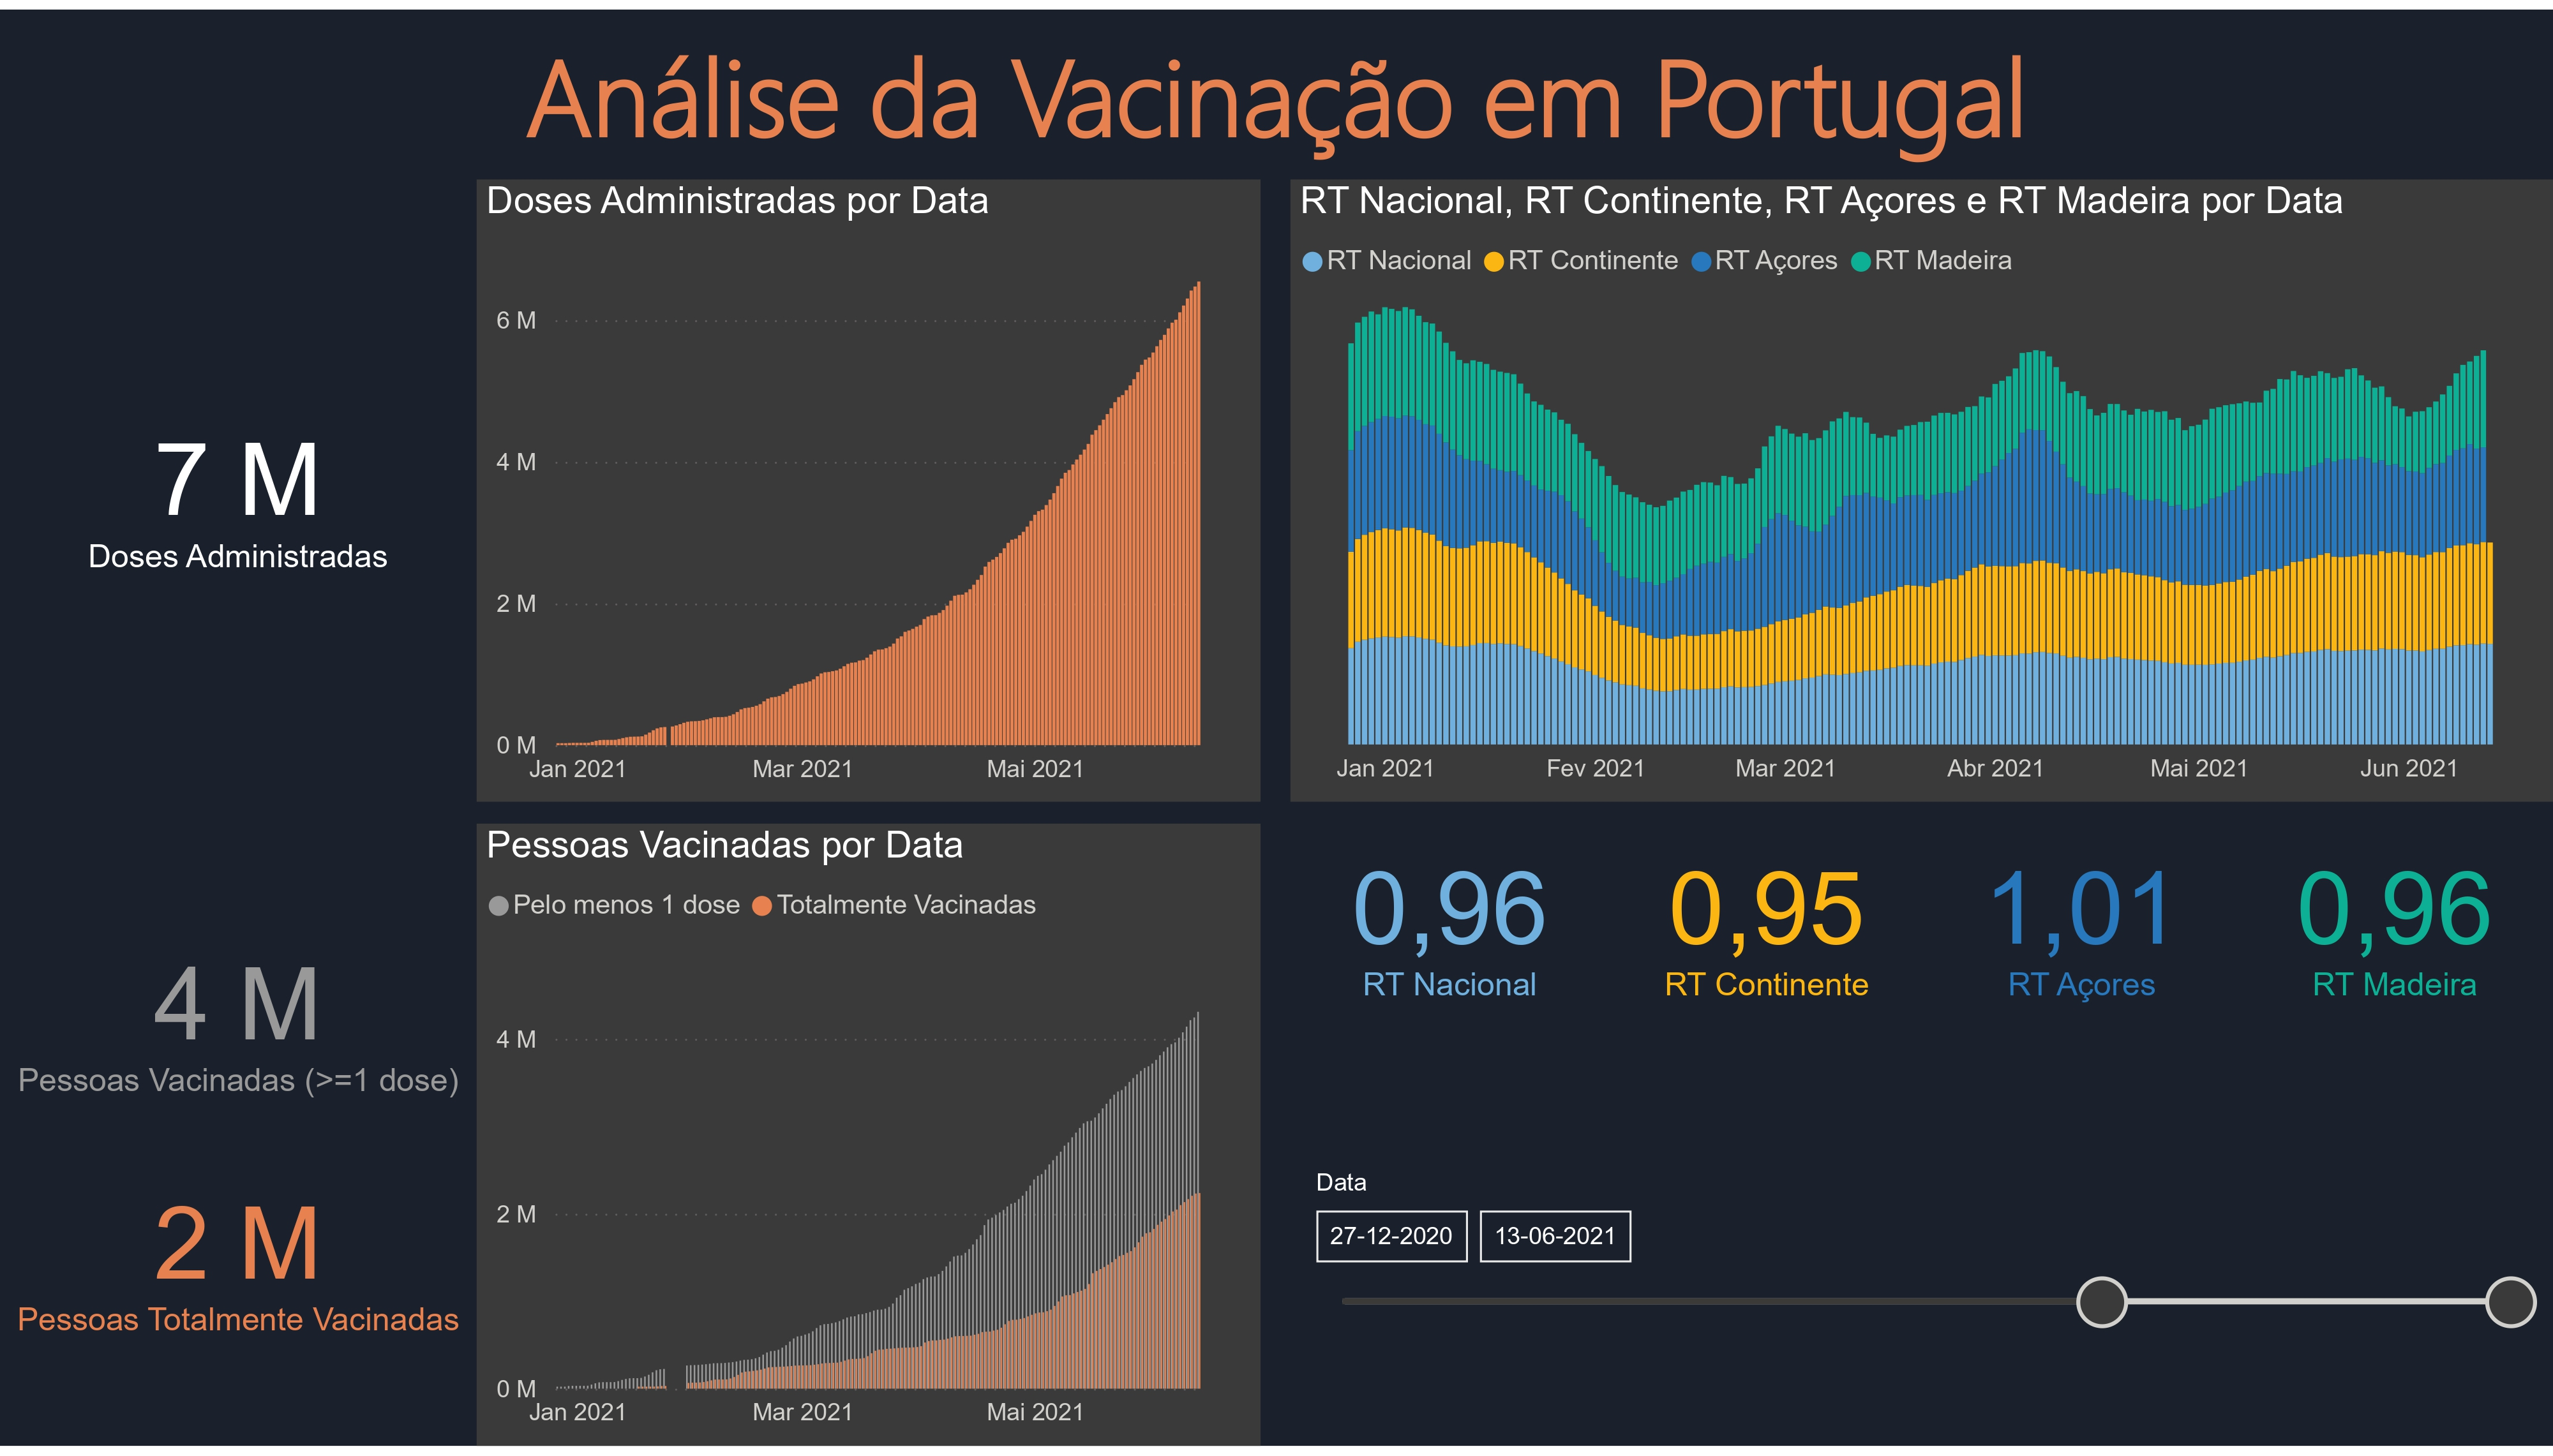

The dashboard page shown, as its layout file describes it:
{"tool":"powerbi","page":{"name":"Vacinação Portugal","canvas":[1280,720],"ordinal":3},"visuals":[{"type":"card","fields":{"Values":["Vacinação_Portugal.Vacinação"]},"box":[0,188.7,238.8,103.9],"z":0},{"type":"lineStackedColumnComboChart","title":"Doses Administradas por Data","fields":{"Category":["Calendário.Data"],"Y":["Vacinação_Portugal.Vacinação"]},"box":[238.8,84.8,392.8,311.6],"z":1000},{"type":"card","fields":{"Values":["Vacinação_Portugal.Primeira Dose"]},"box":[0,456.1,238.8,95.5],"z":2000},{"type":"card","fields":{"Values":["Vacinação_Portugal.Segunda Dose"]},"box":[0,575.5,238.8,95.5],"z":3000},{"type":"lineClusteredColumnComboChart","title":"Pessoas Vacinadas por Data","fields":{"Category":["Calendário.Data"],"Y":["Vacinação_Portugal.Primeira Dose","Vacinação_Portugal.Segunda Dose"]},"box":[238.8,408.4,392.8,311.6],"z":4000},{"type":"textbox","box":[0,0,1280,84.8],"z":5000},{"type":"lineStackedColumnComboChart","title":"RT Nacional, RT Continente, RT Açores e RT Madeira por Data","fields":{"Category":["Calendário.Data"],"Y":["Avg(RT_Portugal.rt_nacional)","Avg(RT_Portugal.rt_continente)","Avg(RT_Portugal.rt_açores)","Avg(RT_Portugal.rt_madeira)"]},"box":[647.2,84.8,632.8,311.6],"z":6000},{"type":"card","fields":{"Values":["Avg(RT_Portugal.rt_nacional)"]},"box":[647.2,408.4,160,95.5],"z":7000},{"type":"card","fields":{"Values":["Avg(RT_Portugal.rt_continente)"]},"box":[807.2,408.4,157.6,95.5],"z":8000},{"type":"card","fields":{"Values":["Avg(RT_Portugal.rt_açores)"]},"box":[964.8,408.4,157.6,95.5],"z":9000},{"type":"card","fields":{"Values":["Avg(RT_Portugal.rt_madeira)"]},"box":[1122.4,408.4,157.6,95.5],"z":10000},{"type":"slicer","fields":{"Values":["Calendário.Data"]},"box":[647.2,575.5,632.8,106.3],"z":11000}]}

Visuals, with their boxes in screenshot pixels (x1, y1, x2, y2), scaled from the page's 1280x720 canvas onto the 2553x1456 screenshot:
card - Vacinação_Portugal.Vacinação: x1=0 y1=382 x2=476 y2=591
"Doses Administradas por Data" lineStackedColumnComboChart: x1=476 y1=172 x2=1260 y2=801
card - Vacinação_Portugal.Primeira Dose: x1=0 y1=923 x2=476 y2=1115
card - Vacinação_Portugal.Segunda Dose: x1=0 y1=1164 x2=476 y2=1357
"Pessoas Vacinadas por Data" lineClusteredColumnComboChart: x1=476 y1=826 x2=1260 y2=1455
textbox: x1=0 y1=0 x2=2552 y2=172
"RT Nacional, RT Continente, RT Açores e RT Madeira por Data" lineStackedColumnComboChart: x1=1291 y1=172 x2=2552 y2=801
card - Avg(RT_Portugal.rt_nacional): x1=1291 y1=826 x2=1610 y2=1019
card - Avg(RT_Portugal.rt_continente): x1=1610 y1=826 x2=1924 y2=1019
card - Avg(RT_Portugal.rt_açores): x1=1924 y1=826 x2=2238 y2=1019
card - Avg(RT_Portugal.rt_madeira): x1=2239 y1=826 x2=2552 y2=1019
slicer - Calendário.Data: x1=1291 y1=1164 x2=2552 y2=1379
